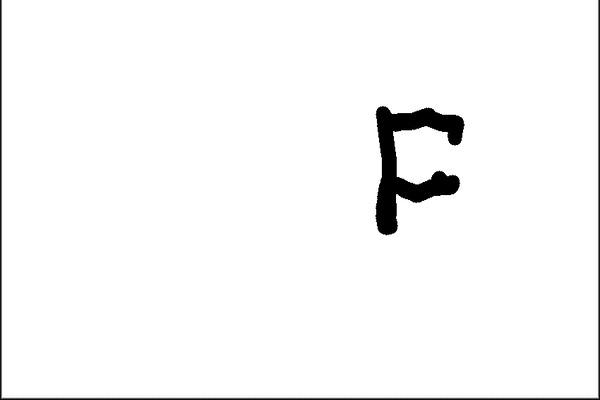F: (370, 101, 469, 238)
